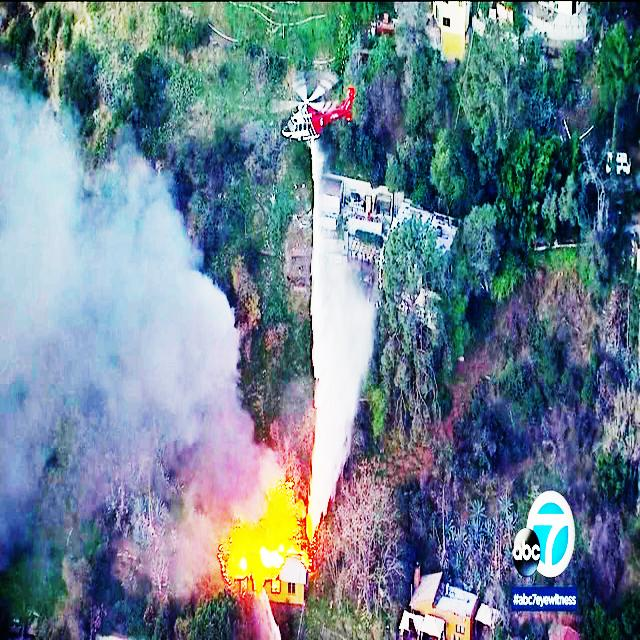api: (223, 504, 311, 602)
asap: (1, 103, 291, 547)
